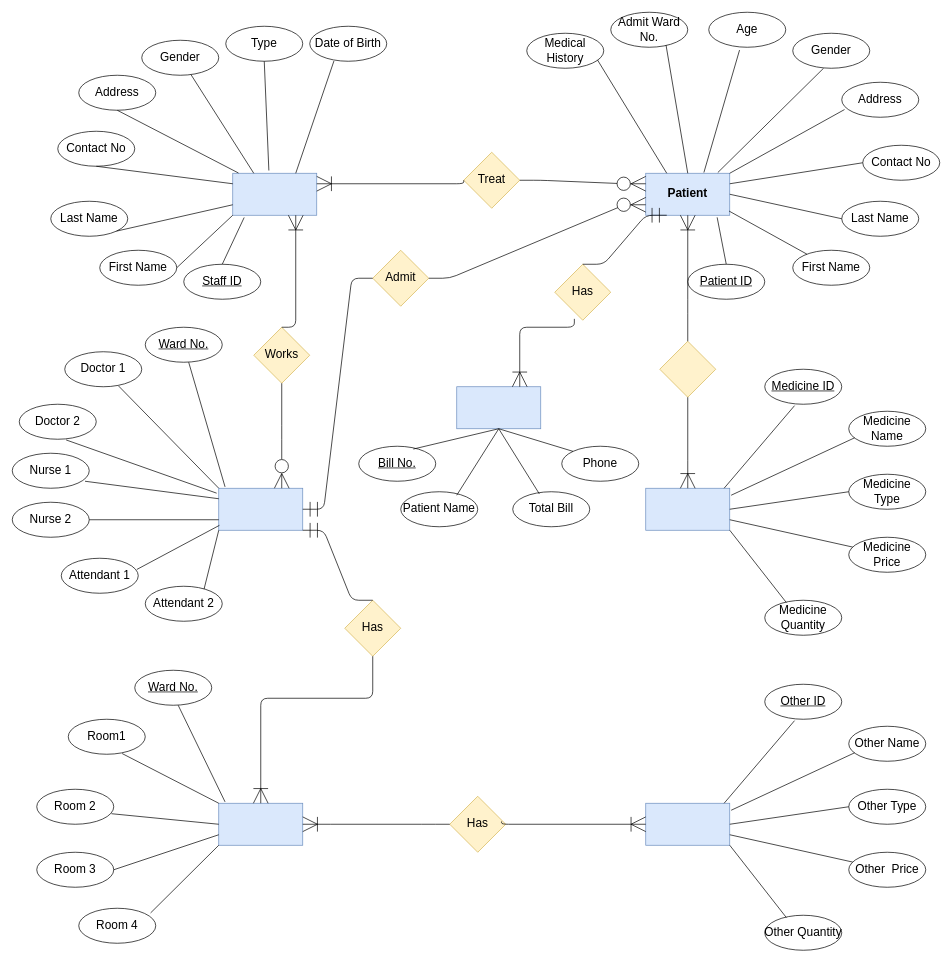
The diagram is 952 pixels wide and 963 high, and some of its shapes have lost their labels. The shapes that lost their labels are listed below. From the top down, each one's centre as x and y in pixels, then its label:
At point 274,194: "Staff".
At point 687,369: "Need".
At point 498,407: "Bills".
At point 260,509: "Wards".
At point 687,509: "Medicines".
At point 260,824: "Rooms".
At point 687,824: "Others".
